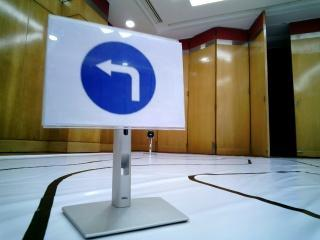left: (57, 37, 171, 127)
